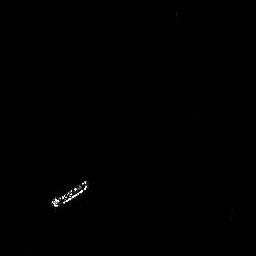ship: (49, 178, 91, 208)
